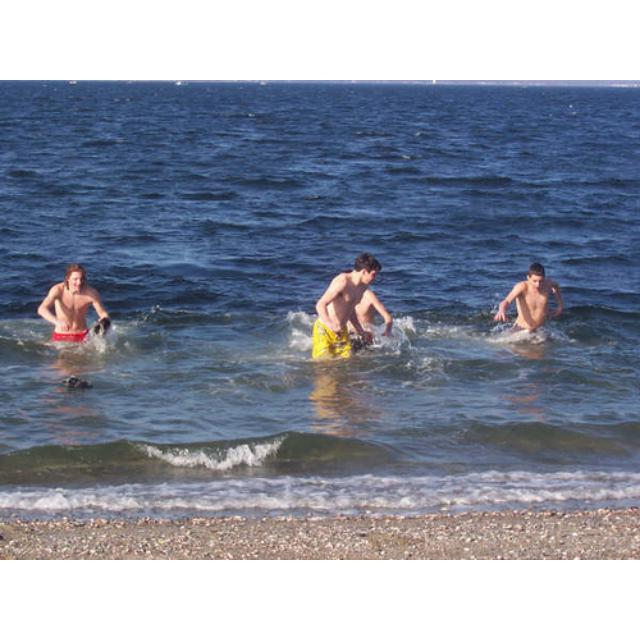human: (312, 255, 387, 365), (39, 262, 108, 350), (498, 261, 563, 335)
